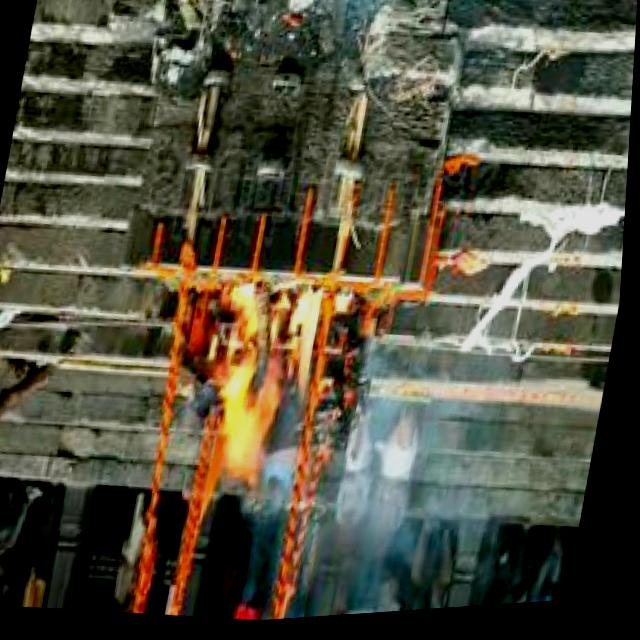helmet: (196, 274, 357, 499)
